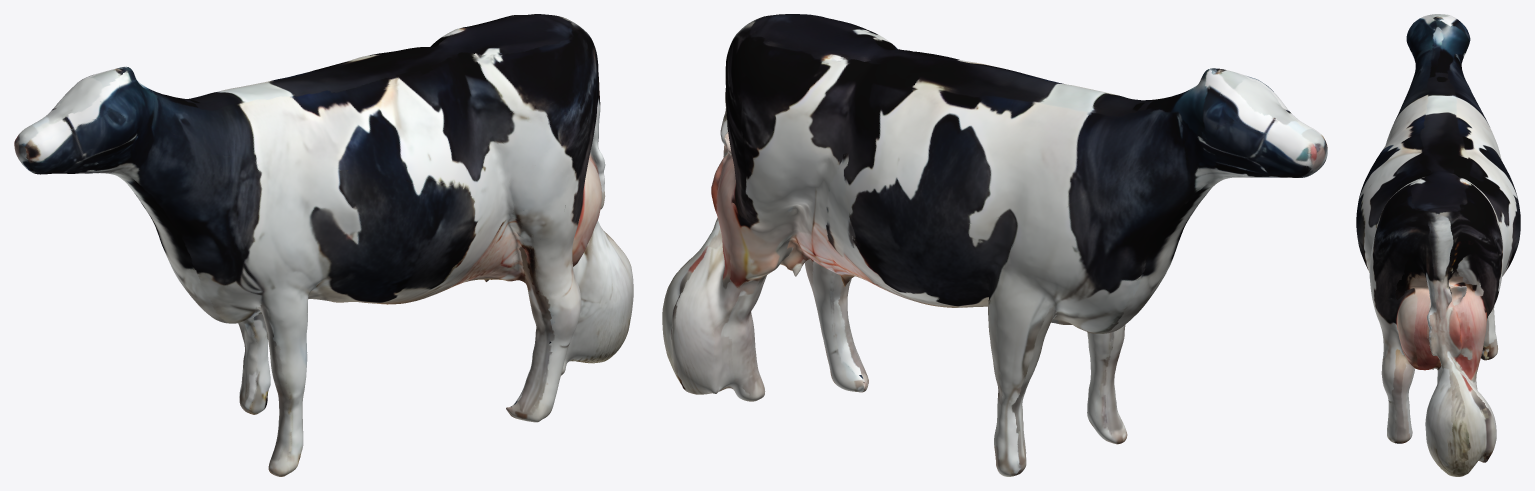
The model's file is adulto.glb.
3 renders of one model, left to right at view 1: azimuth 30°, elevation 25°; view 2: azimuth 150°, elevation 25°; view 3: azimuth 270°, elevation 25°, orthographic. The views are drawn at different scales.
Visible parts, largest first — view 1: mesh; view 2: mesh; view 3: mesh.
Boxes of the visible parts, x1,y1,x2,y2 form: mesh: (14,14,633,476); mesh: (662,14,1327,476); mesh: (1356,14,1520,476).
Bounding box in the file's own units: 1.77 × 1.14 × 0.5809.
Materials: 1 (1 with a texture image).
